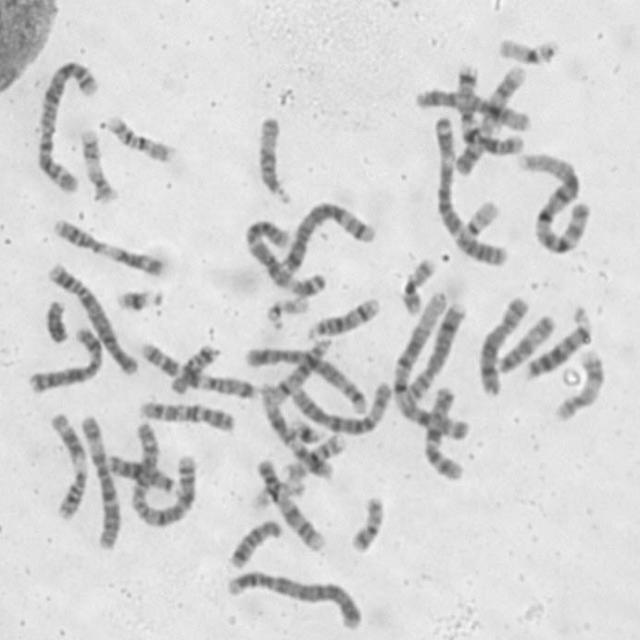A1: (388, 289, 472, 442), (515, 148, 590, 255)
A2: (32, 59, 100, 195), (128, 418, 198, 530)
A3: (430, 110, 509, 268), (241, 215, 327, 298)
B4: (44, 258, 140, 376), (224, 566, 365, 631)
B5: (244, 342, 370, 414), (275, 198, 378, 276)
C10: (419, 382, 466, 482), (136, 396, 236, 434)
C11: (50, 214, 167, 278), (47, 408, 89, 524)
C12: (256, 382, 337, 482), (412, 87, 534, 134)
C6: (284, 376, 393, 436), (79, 412, 121, 551)
C7: (451, 62, 527, 163), (137, 338, 259, 400)
C8: (400, 300, 466, 414), (474, 292, 530, 398)
C9: (451, 61, 528, 177), (254, 455, 326, 553)
D13: (522, 306, 594, 382), (103, 450, 178, 496)
D14: (265, 334, 331, 410), (303, 294, 381, 342)
D15: (492, 310, 556, 376), (254, 112, 292, 208)
E16: (104, 110, 176, 165), (278, 429, 348, 484)
E17: (551, 346, 606, 424), (77, 123, 118, 204)
E18: (168, 340, 223, 396), (226, 516, 282, 569)
F19: (248, 474, 310, 513), (496, 34, 558, 67)
F20: (398, 256, 439, 318), (348, 492, 388, 555)
G21: (113, 282, 165, 314), (290, 418, 328, 444)
G22: (263, 292, 311, 328), (458, 196, 499, 238)
X: (25, 322, 104, 397)
Y: (42, 296, 70, 344)
